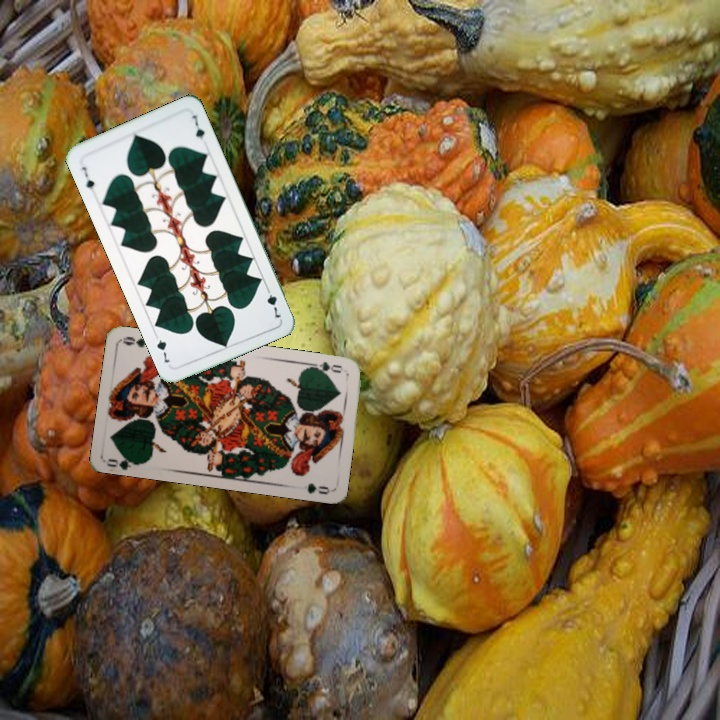G7: (262, 282, 284, 322), (78, 162, 97, 192)
GO: (103, 450, 145, 471), (307, 358, 344, 377)
